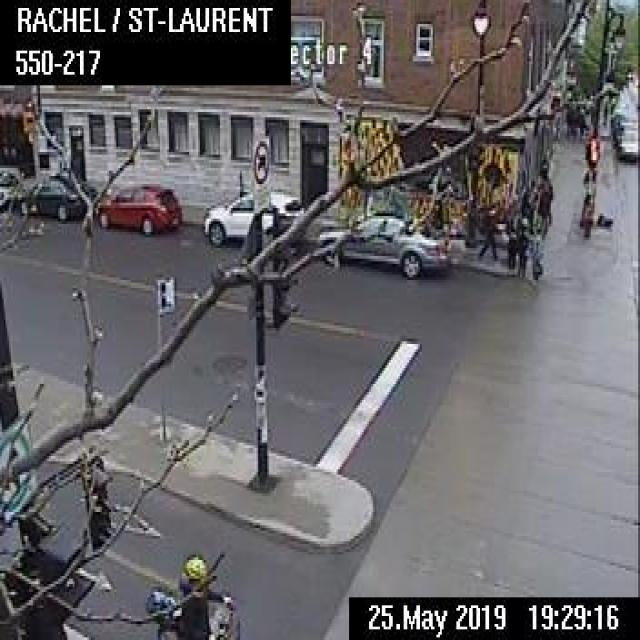cyclist: (144, 550, 240, 638)
pedestrian: (473, 199, 499, 257), (518, 176, 538, 232), (538, 174, 550, 234), (529, 228, 541, 282), (516, 226, 528, 272), (506, 229, 517, 268)
vehicle: (312, 203, 452, 280), (202, 189, 303, 251), (91, 182, 182, 234), (19, 168, 85, 217), (616, 126, 638, 162)
